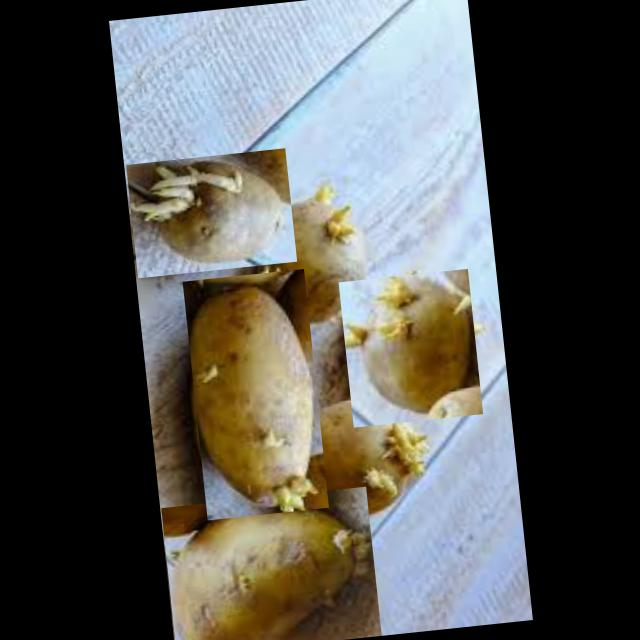Sprouted potato: (182, 269, 328, 520), (159, 486, 380, 640), (337, 268, 482, 428), (248, 176, 382, 348), (124, 148, 296, 278), (296, 390, 442, 525)
